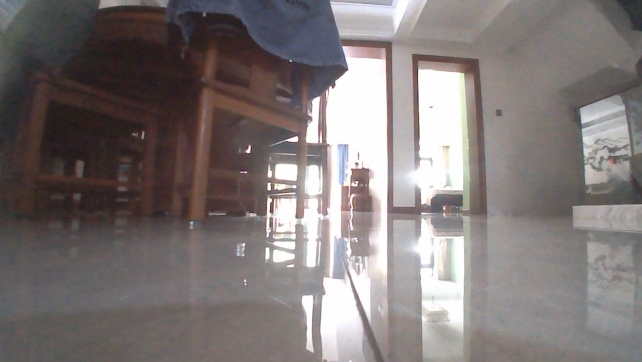dining_table: (0, 0, 352, 222)
